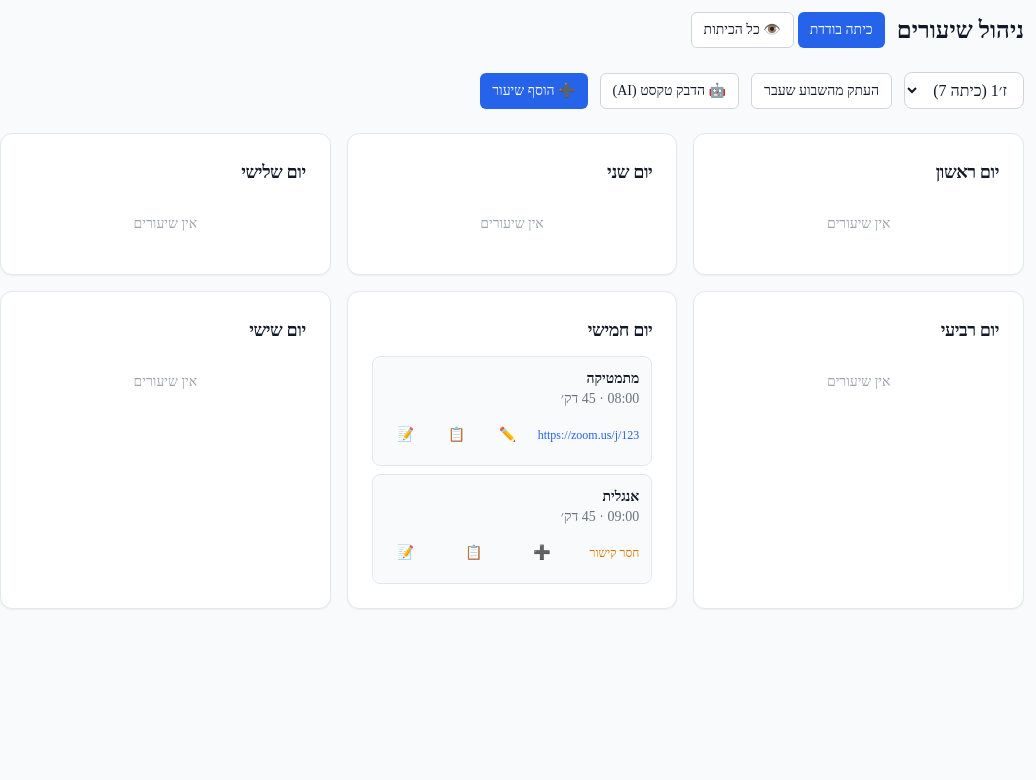
TeacherLessons › shows error on invalid URL
Expected: the text "אנגלית" is shown, [602,489,639,504]
// Click add for lesson without URL
Click the button "➕" at (542,553), box [521,535,563,571]
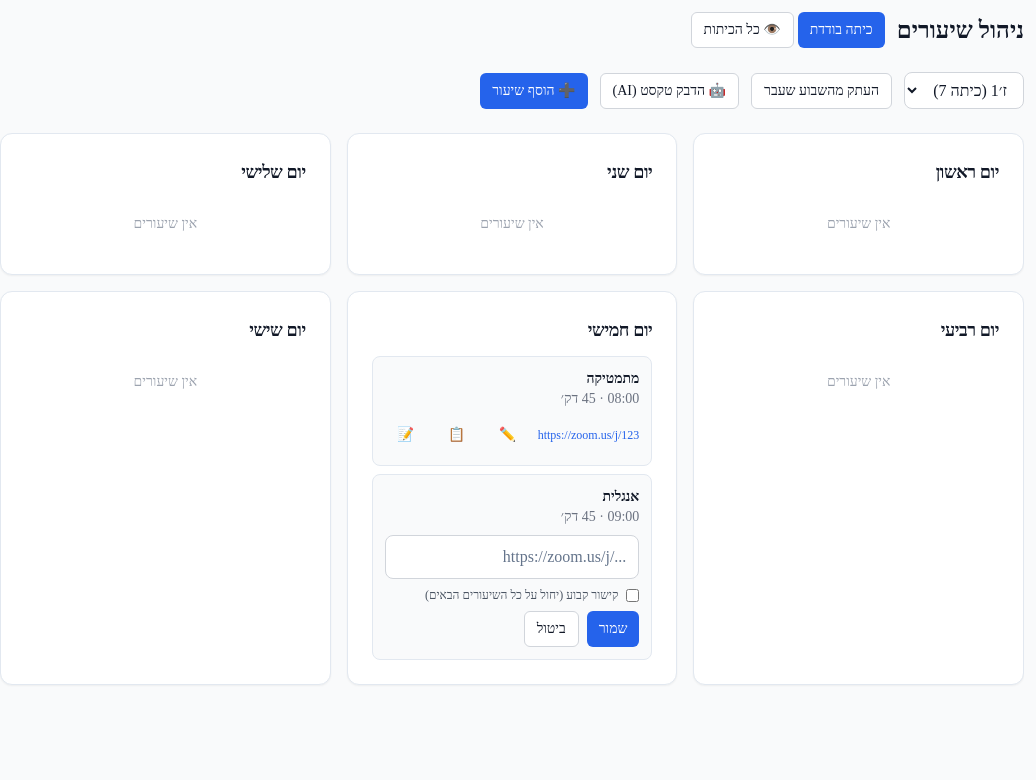
Type "not-a-url" into the field named "קישור למפגש" at (512,557), box [385,535,639,579]
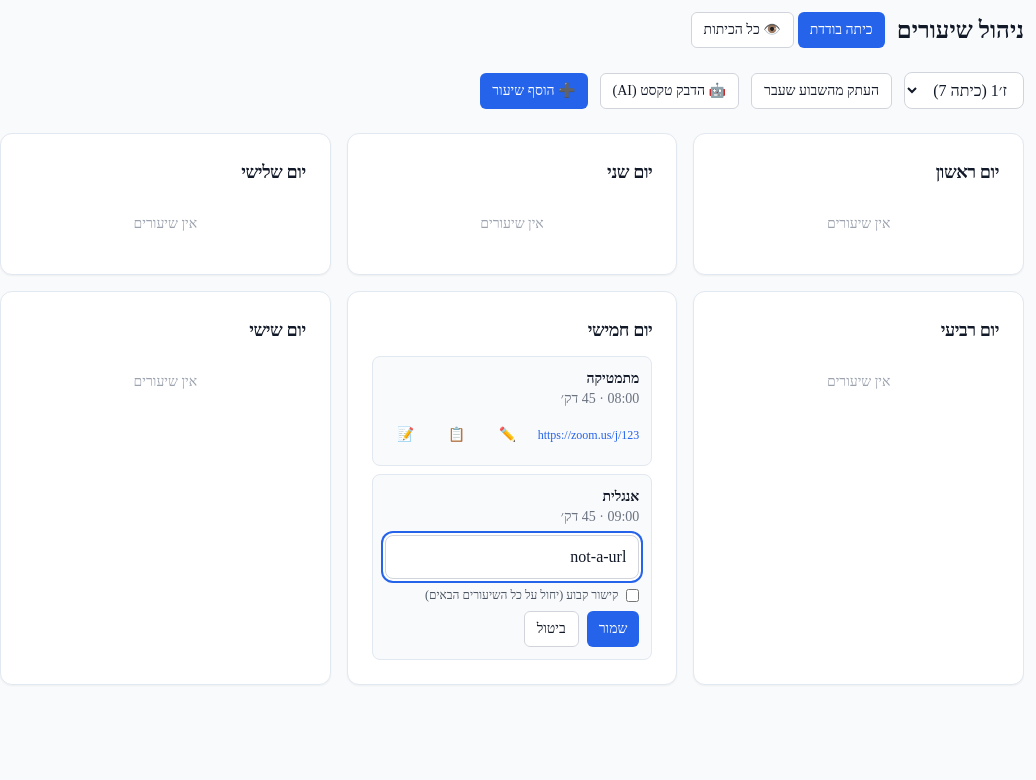
Click the button "שמור" at (613,629), box [587,611,639,647]
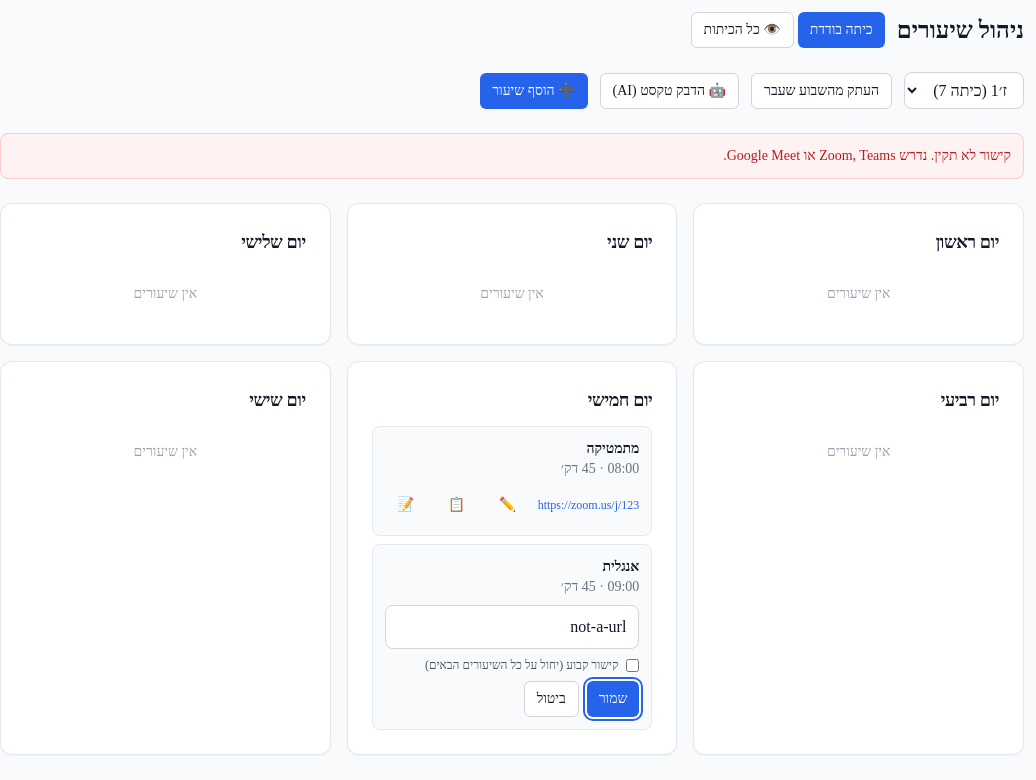
Now the message "קישור לא תקין. נדרש Zoom, Teams או Google Meet." is shown, box [0,133,1024,179]
